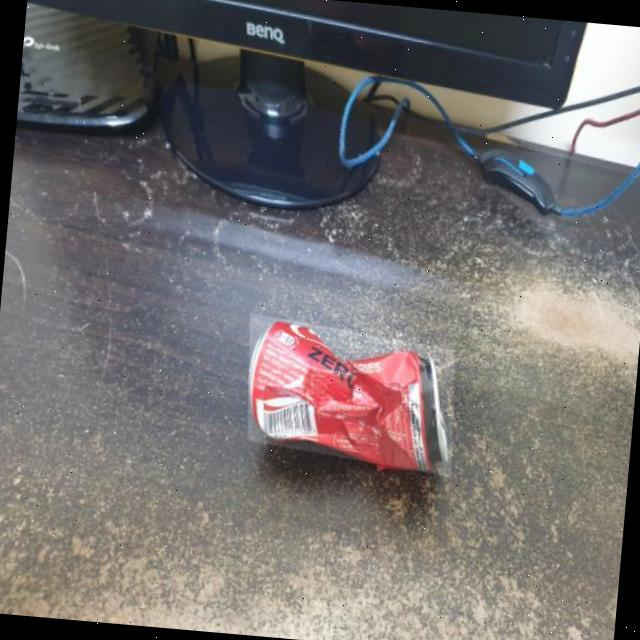trash: (232, 320, 456, 480)
